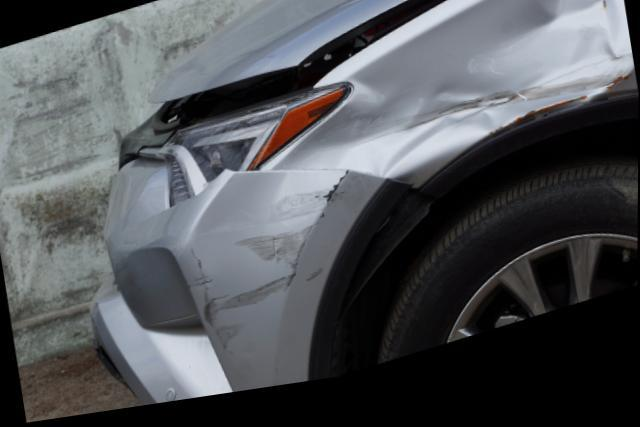dent: (272, 0, 635, 190)
dislocated part: (152, 0, 483, 132)
scratch: (181, 183, 349, 359)
